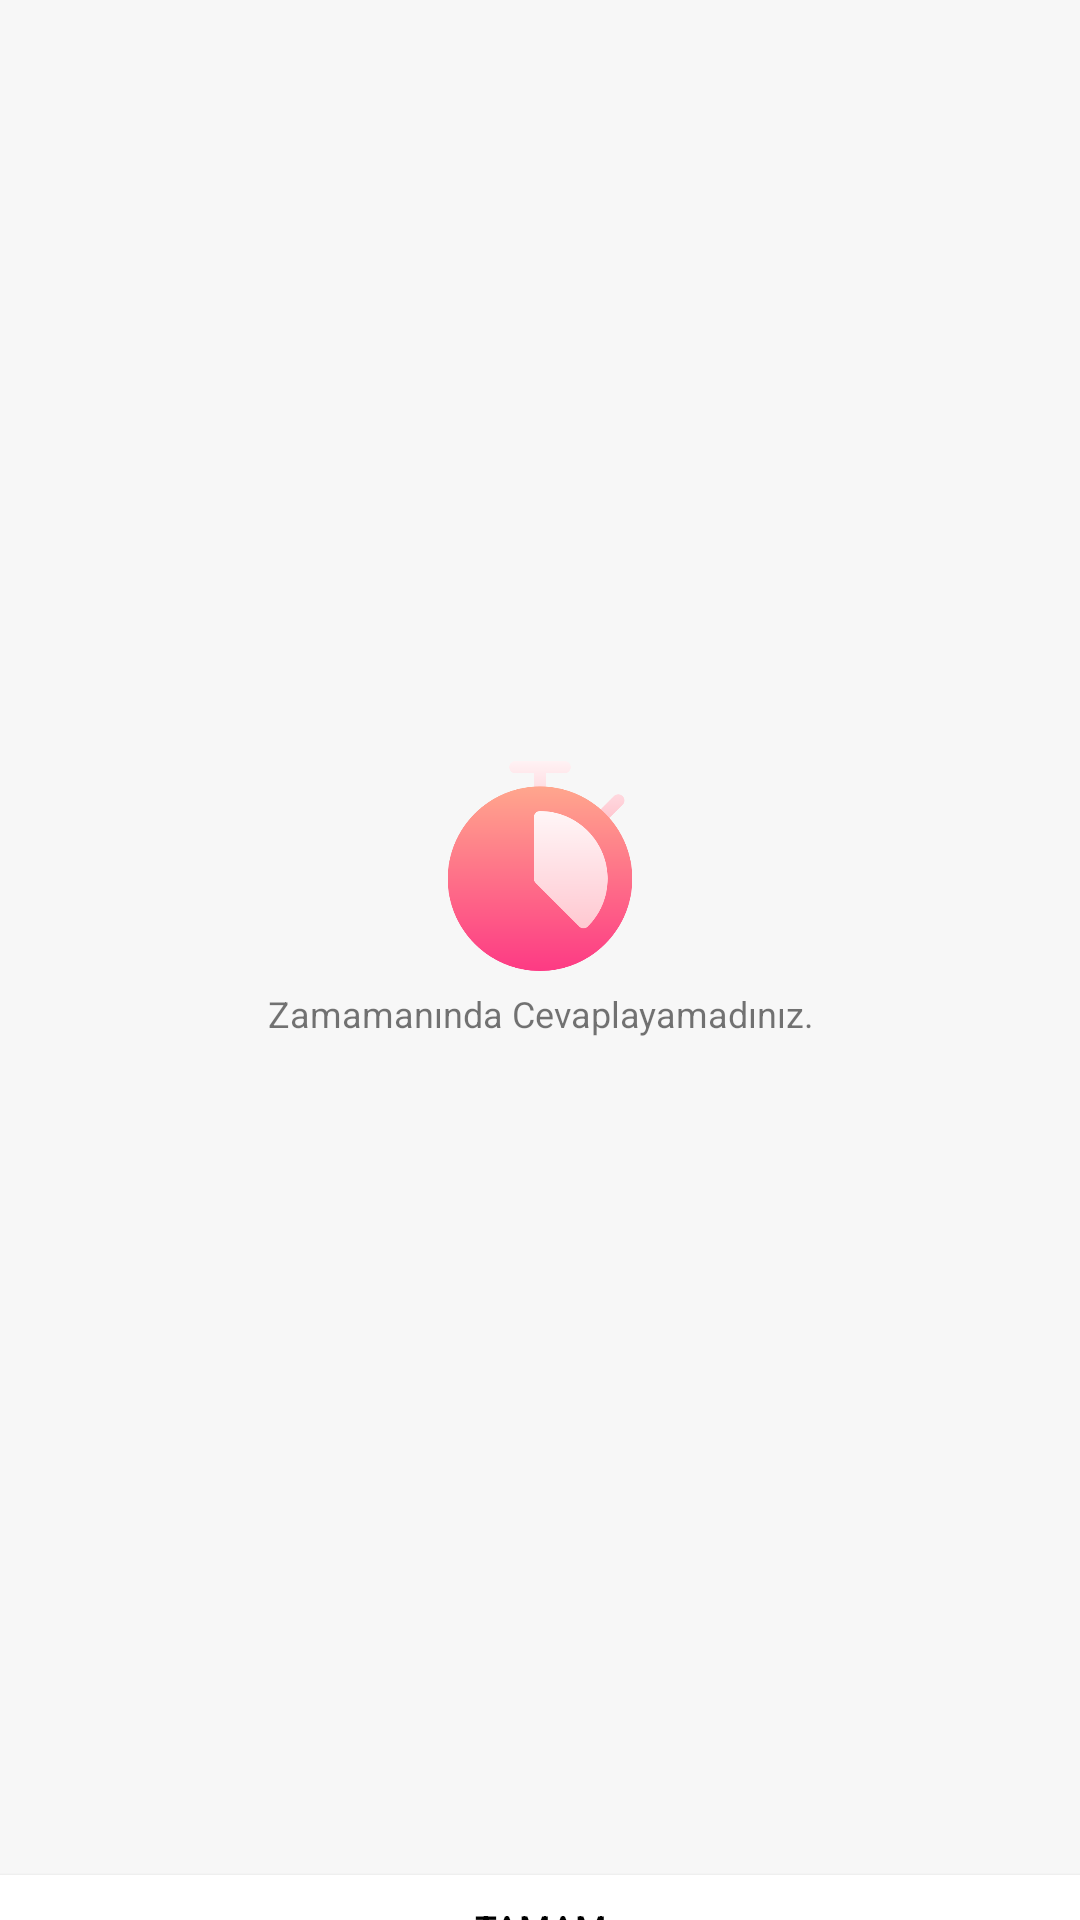

Named icons in this screenshot (1080px x 1920px) and their bounding boxes, [x1, y1, x2, y2]:
timer: [448, 786, 632, 971]
